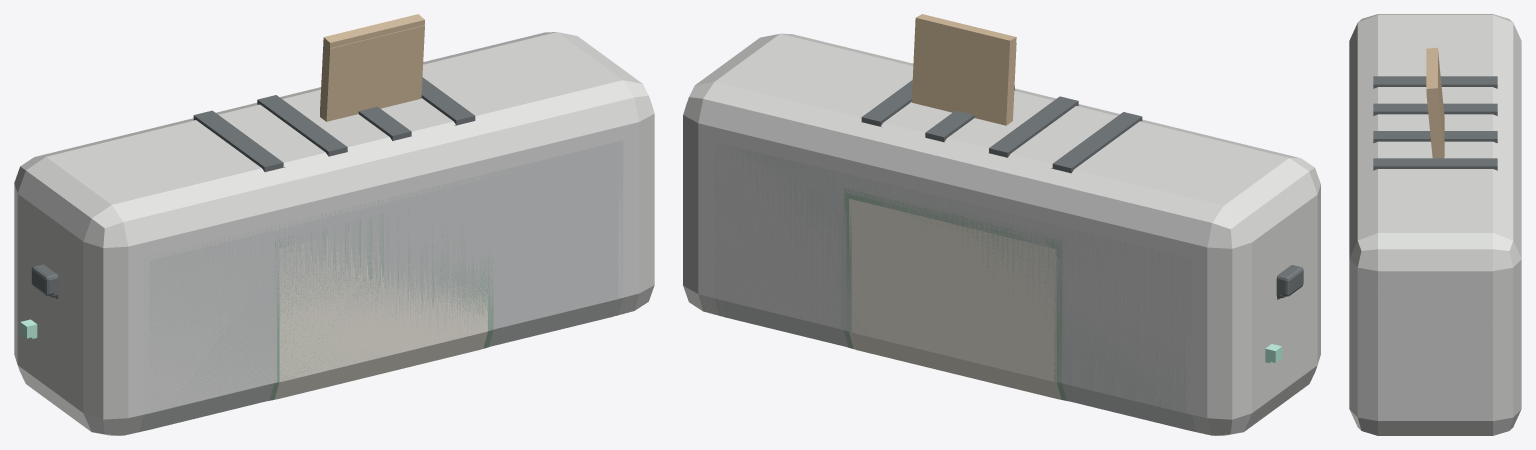
Rendered from Gear04.fbx.
3 views of the same model, side by side, from view 1: azimuth 30°, elevation 25°; view 2: azimuth 150°, elevation 25°; view 3: azimuth 270°, elevation 25° (orthographic). The views are drawn at different scales.
Parts seen in each view (by area): view 1: Gear04_V10_Chrome, Gear04_V6_BrushedSteel, Gear04_V2_Ivory, Gear04_V9_Oak, Gear04_V10_Charcoal, Gear04_V9_Chrome, Gear04_V1_Ivory, Gear04_V7_BrushedSteel, Gear04_V4_Sage, Gear04_V8_Chrome, Gear04_V10_Oak, Gear04_V5_BrushedSteel (+1 smaller); view 2: Gear04_V10_Chrome, Gear04_V1_Ivory, Gear04_V6_BrushedSteel, Gear04_V9_Chrome, Gear04_V7_BrushedSteel, Gear04_V8_Chrome, Gear04_V10_Oak, Gear04_V10_Charcoal, Gear04_V2_Ivory, Gear04_V5_BrushedSteel, Gear04_V3_Sage, Gear04_V4_Sage (+1 smaller); view 3: Gear04_V10_Chrome, Gear04_V10_Charcoal, Gear04_V10_Oak, Gear04_V9_Oak.
Part boxes in pixels (x1=…): Gear04_V10_Chrome: x1=14, y1=32, x2=654, y2=435; Gear04_V6_BrushedSteel: x1=144, y1=146, x2=617, y2=430; Gear04_V2_Ivory: x1=274, y1=235, x2=487, y2=399; Gear04_V9_Oak: x1=320, y1=25, x2=424, y2=121; Gear04_V10_Charcoal: x1=31, y1=77, x2=475, y2=295; Gear04_V9_Chrome: x1=128, y1=128, x2=633, y2=434; Gear04_V1_Ivory: x1=277, y1=254, x2=485, y2=399; Gear04_V7_BrushedSteel: x1=139, y1=140, x2=623, y2=431; Gear04_V4_Sage: x1=269, y1=195, x2=493, y2=400; Gear04_V8_Chrome: x1=134, y1=134, x2=628, y2=433; Gear04_V10_Oak: x1=320, y1=14, x2=424, y2=118; Gear04_V5_BrushedSteel: x1=267, y1=187, x2=495, y2=401; Gear04_V10_Chrome: x1=683, y1=33, x2=1320, y2=435; Gear04_V1_Ivory: x1=851, y1=204, x2=1058, y2=399; Gear04_V6_BrushedSteel: x1=719, y1=149, x2=1190, y2=430; Gear04_V9_Chrome: x1=703, y1=134, x2=1206, y2=434; Gear04_V7_BrushedSteel: x1=714, y1=142, x2=1196, y2=432; Gear04_V8_Chrome: x1=709, y1=138, x2=1201, y2=433; Gear04_V10_Oak: x1=912, y1=14, x2=1016, y2=122; Gear04_V10_Charcoal: x1=861, y1=80, x2=1303, y2=296; Gear04_V2_Ivory: x1=849, y1=198, x2=1061, y2=399; Gear04_V5_BrushedSteel: x1=841, y1=186, x2=1069, y2=401; Gear04_V3_Sage: x1=846, y1=193, x2=1064, y2=400; Gear04_V4_Sage: x1=844, y1=188, x2=1066, y2=400; Gear04_V10_Chrome: x1=1349, y1=14, x2=1521, y2=435; Gear04_V10_Charcoal: x1=1373, y1=76, x2=1497, y2=170; Gear04_V10_Oak: x1=1426, y1=47, x2=1444, y2=157; Gear04_V9_Oak: x1=1426, y1=90, x2=1444, y2=158.
Bounding box in the file's own units: 61.13 × 31.71 × 18.
